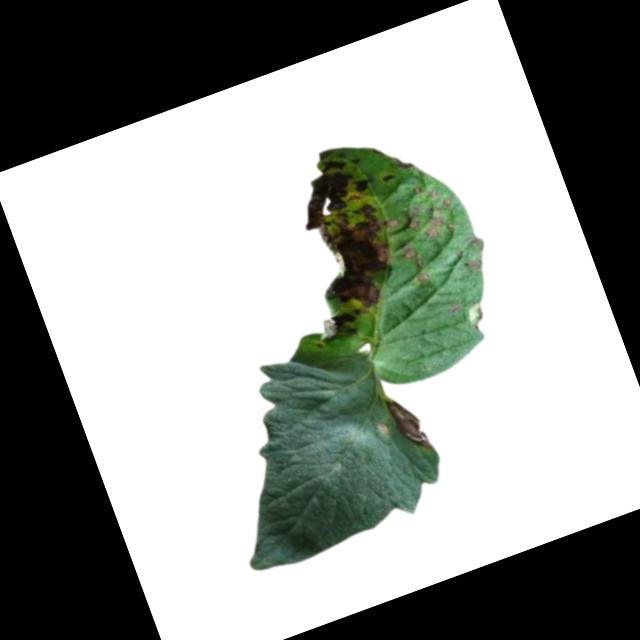Early_blight: (265, 148, 421, 342), (381, 387, 437, 459), (400, 239, 431, 287), (424, 213, 451, 240), (402, 203, 425, 232), (465, 256, 486, 275), (381, 171, 399, 186)
